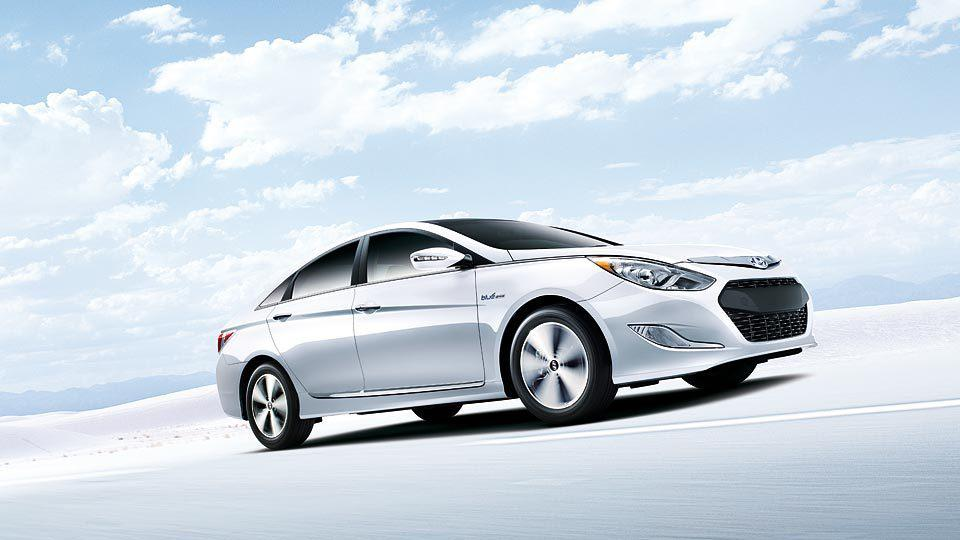Car: (186, 191, 840, 459)
